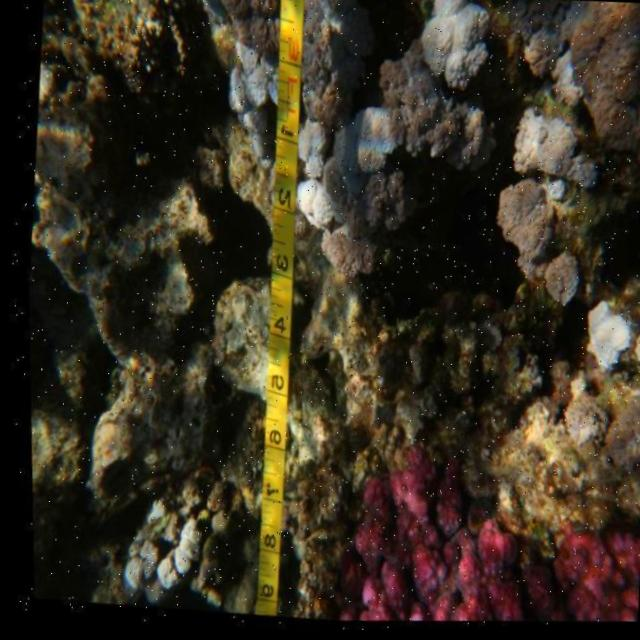Healthy Coral: (303, 425, 640, 633)
